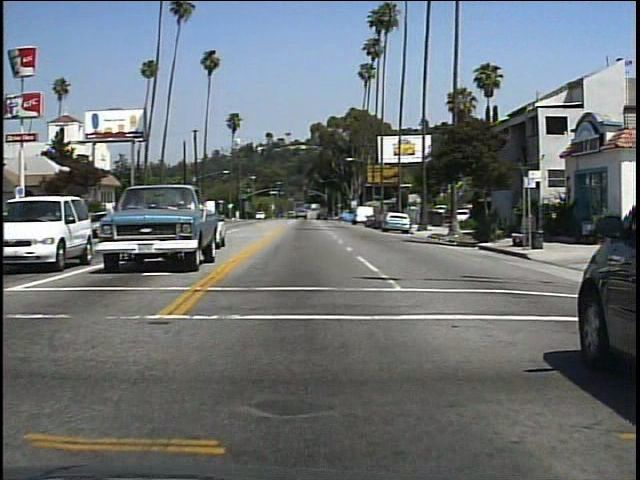person: (489, 199, 512, 247)
